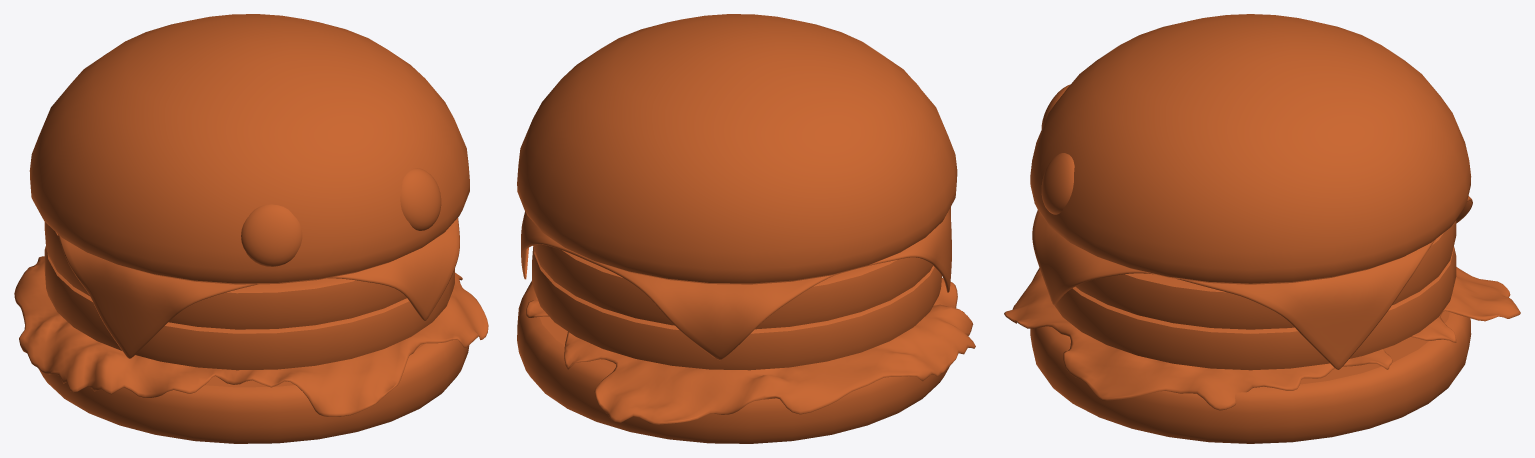
The model's file is SeperatedBurger.fbx.
The picture shows the model from 3 angles, left to right: view 1: azimuth 30°, elevation 25°; view 2: azimuth 150°, elevation 25°; view 3: azimuth 270°, elevation 25°; orthographic projection.
Visible parts, largest first — view 1: Burger_011.001, Burger_011.005, Burger_011.006, Burger_011.004, Burger_011.002, Burger_011.003, Burger_011; view 2: Burger_011.001, Burger_011.005, Burger_011.004, Burger_011.006, Burger_011.002, Burger_011.003; view 3: Burger_011.001, Burger_011.006, Burger_011.005, Burger_011.004, Burger_011.002, Burger_011.003, Burger_011.
Part boxes in pixels (left/top/right/bottom): Burger_011.001: left=29, top=14, right=469, bottom=284; Burger_011.005: left=14, top=256, right=488, bottom=416; Burger_011.006: left=39, top=339, right=469, bottom=443; Burger_011.004: left=44, top=246, right=454, bottom=370; Burger_011.002: left=58, top=218, right=459, bottom=358; Burger_011.003: left=44, top=222, right=406, bottom=329; Burger_011: left=241, top=168, right=441, bottom=266; Burger_011.001: left=517, top=14, right=957, bottom=284; Burger_011.005: left=526, top=278, right=975, bottom=424; Burger_011.004: left=532, top=247, right=941, bottom=370; Burger_011.006: left=517, top=281, right=953, bottom=443; Burger_011.002: left=521, top=207, right=951, bottom=360; Burger_011.003: left=533, top=244, right=932, bottom=329; Burger_011.001: left=1030, top=14, right=1471, bottom=284; Burger_011.006: left=1030, top=311, right=1471, bottom=443; Burger_011.005: left=1004, top=267, right=1520, bottom=410; Burger_011.004: left=1051, top=246, right=1456, bottom=370; Burger_011.002: left=1032, top=196, right=1472, bottom=369; Burger_011.003: left=1075, top=220, right=1456, bottom=329; Burger_011: left=1041, top=84, right=1074, bottom=214.
Size of the model in its own units: 107 by 78.33 by 118.
